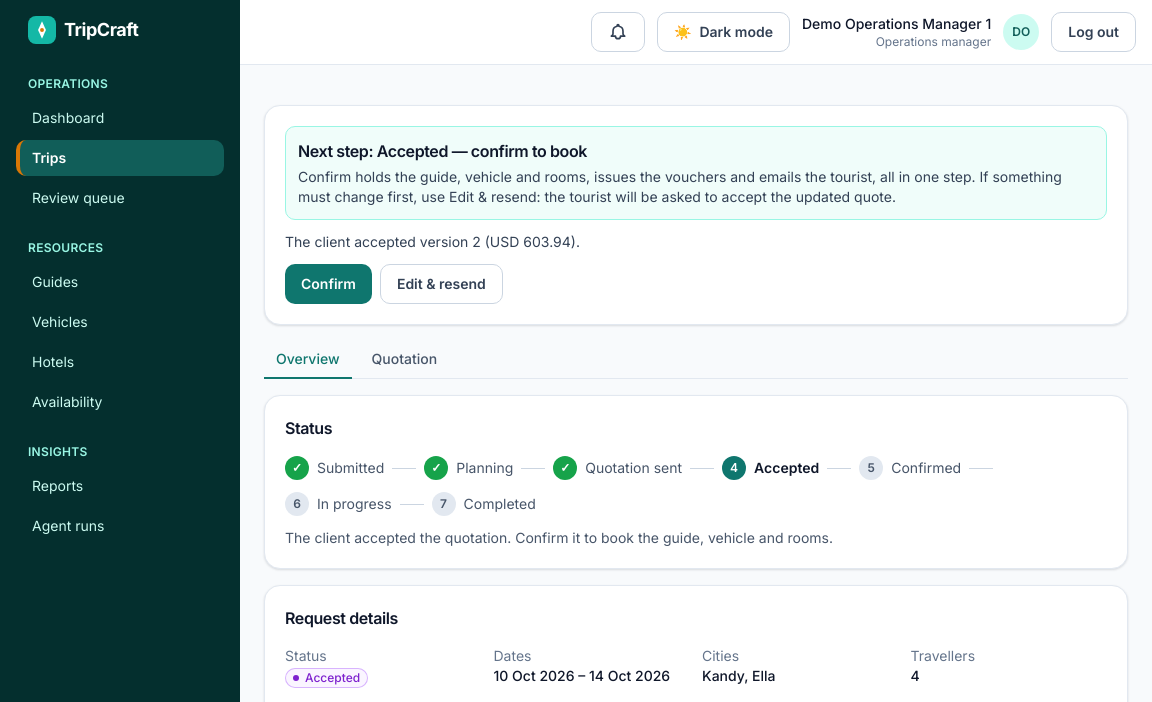
Trip page actions: Accepted › shows the 409 message when Confirm is refused
Click the button "Confirm": (328, 284) [285,264,372,304]
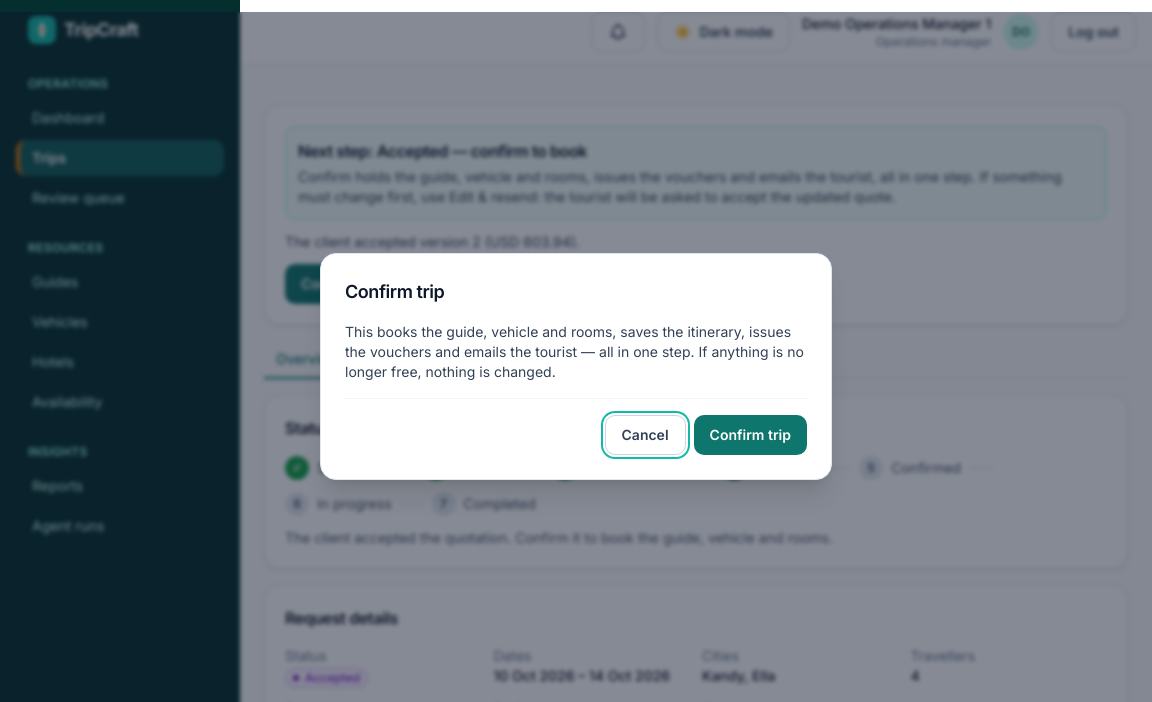
Click the button "Confirm trip": (750, 434) [694,414,807,454]
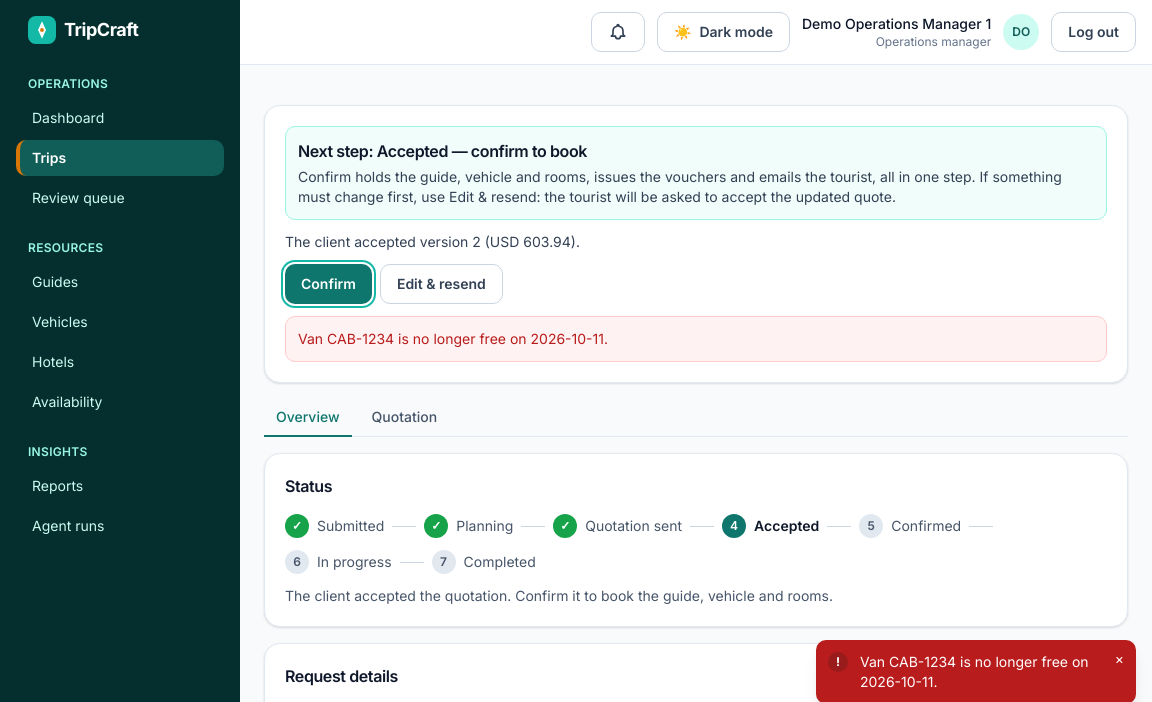
expect the message "Van CAB-1234 is no longer free on 2026-10-11." is shown: met, box [285,316,1107,362]
